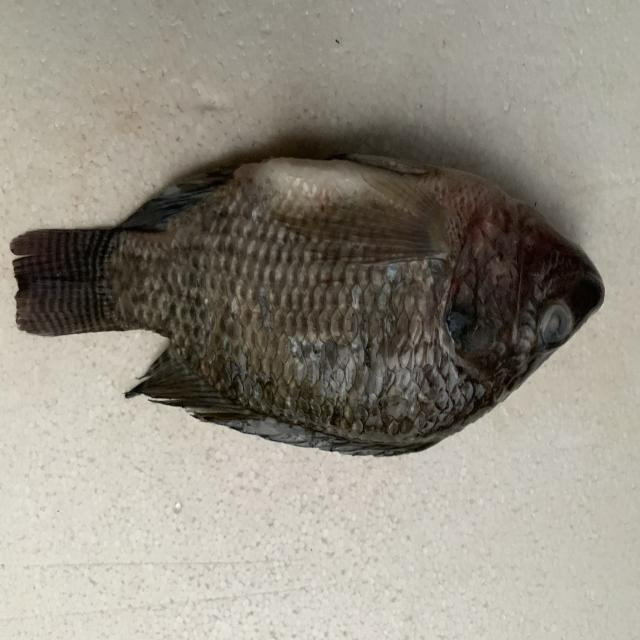Eye -1-: (535, 288, 581, 358)
Skin-4-: (110, 206, 456, 453)
Tilapia-NF-0-5-: (0, 127, 638, 524)
